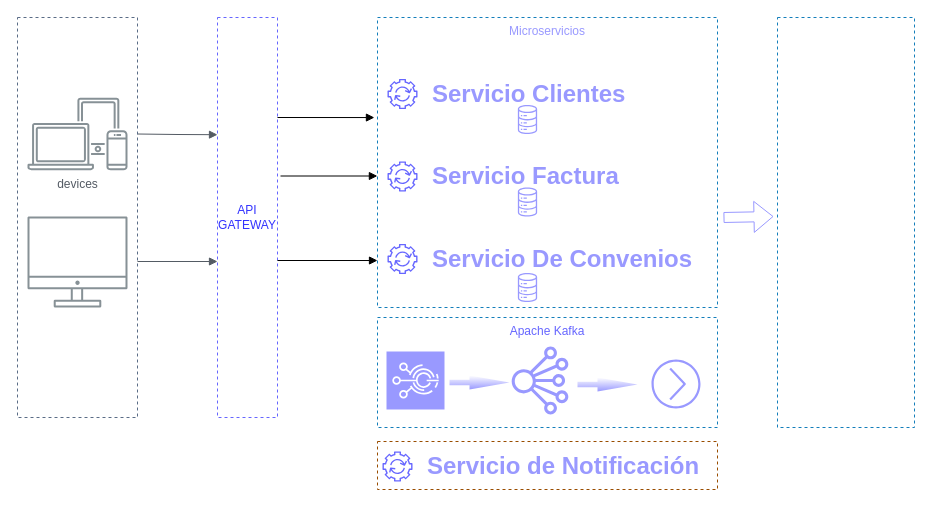
This 932x507 diagram has some shape labels left out. Each missing label, with the centre of its shape:
desktop: the point at 77,261
Proveedor Convenio: the point at 845,222
